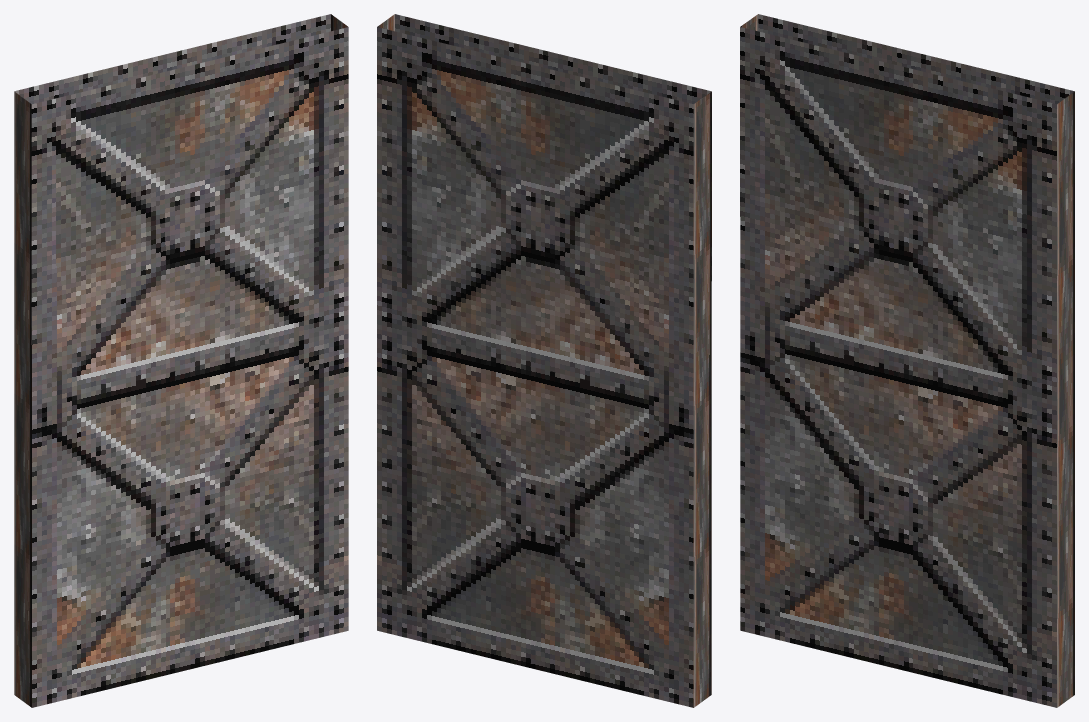
File: primary_195.glb
3 views of the same model, side by side, from view 1: azimuth 30°, elevation 25°; view 2: azimuth 150°, elevation 25°; view 3: azimuth 330°, elevation 25° (orthographic).
Parts seen in each view (by area): view 1: Object; view 2: Object; view 3: Object.
Boxes of the visible parts, x1,y1,x2,y2 form: Object: (14, 14, 348, 707); Object: (377, 14, 711, 707); Object: (740, 14, 1074, 707).
Bounding box in the file's own units: 1.61 × 2.92 × 0.1562.
9 materials, 9 textured.
